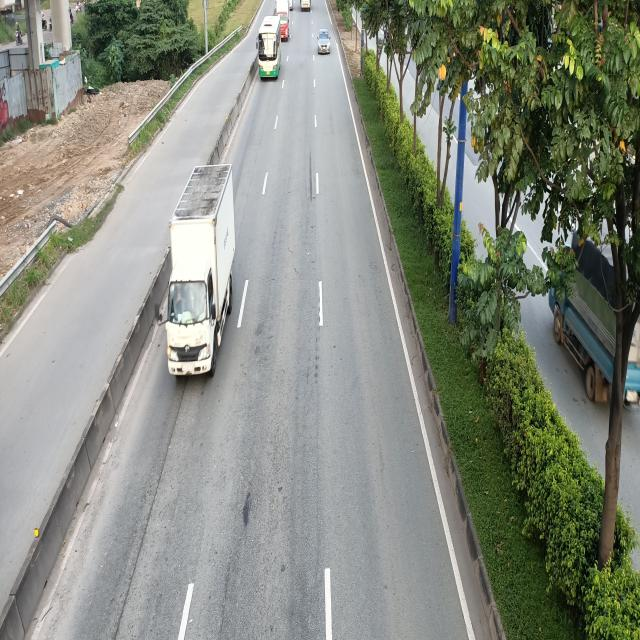car: (317, 28, 330, 54)
coach: (256, 14, 282, 80)
truck: (158, 165, 237, 382)
